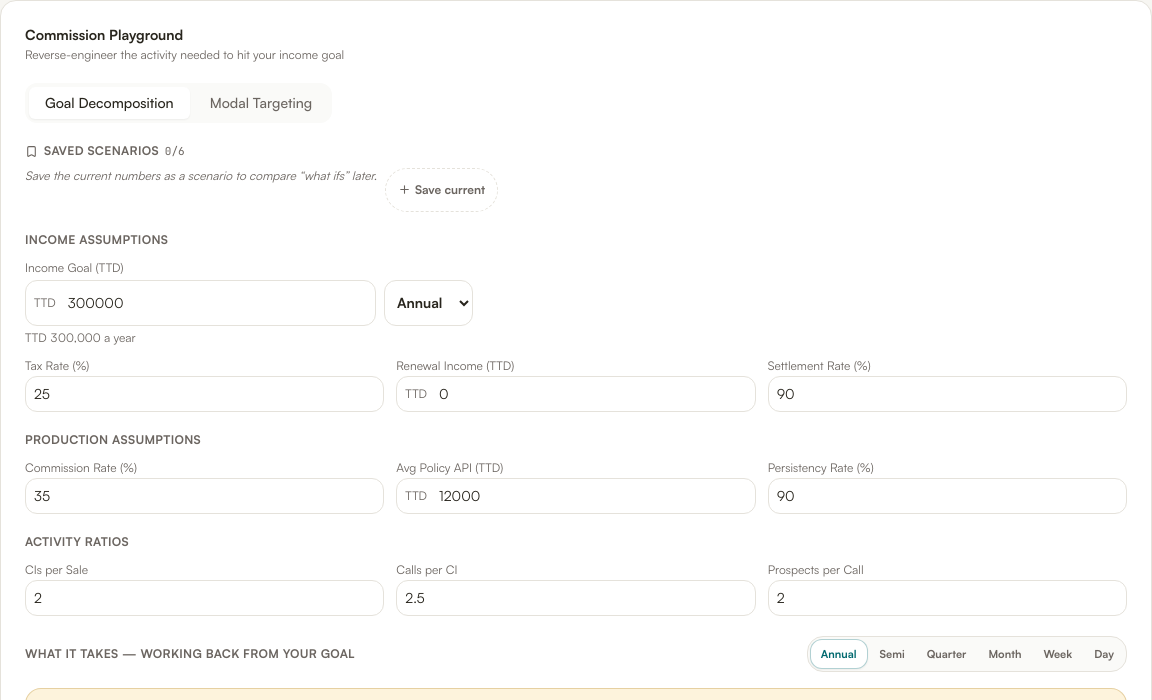
GoalDecompositionTab — D5 parked RTL baseline › clicking Modal Targeting tab shows mode mix sliders
Step 1. Click the tab "Modal Targeting" → coordinates (261, 103), box [194,87,328,119]
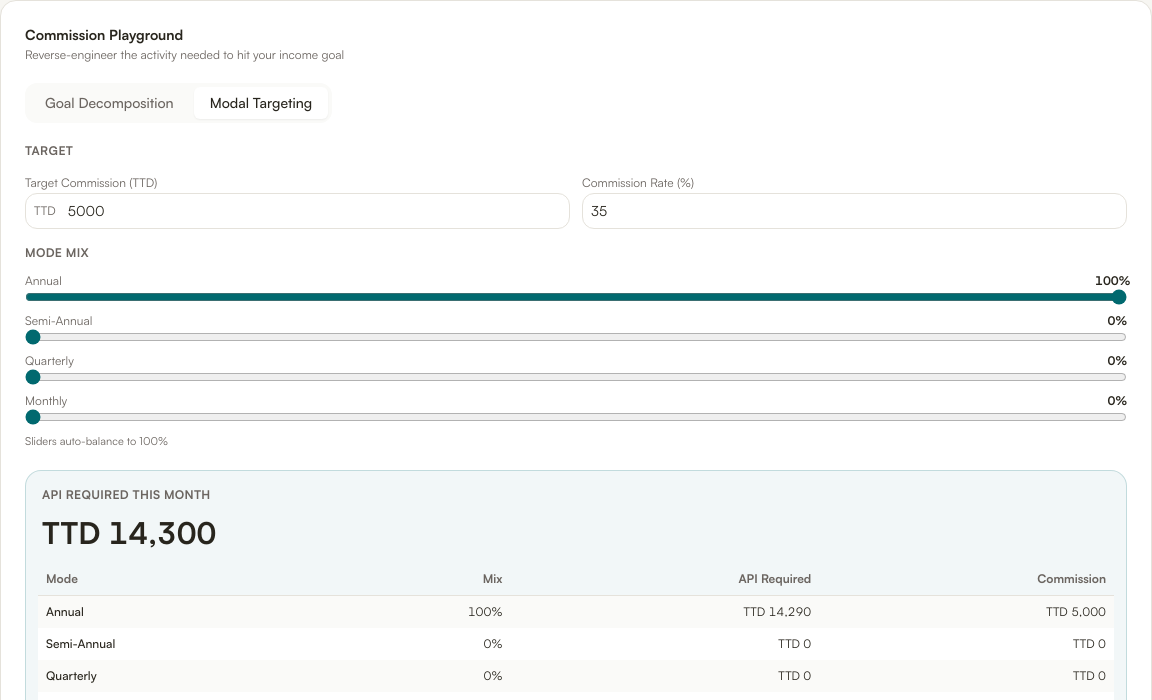
Expected: the text "Mode Mix" is shown, [25,245,89,260]
